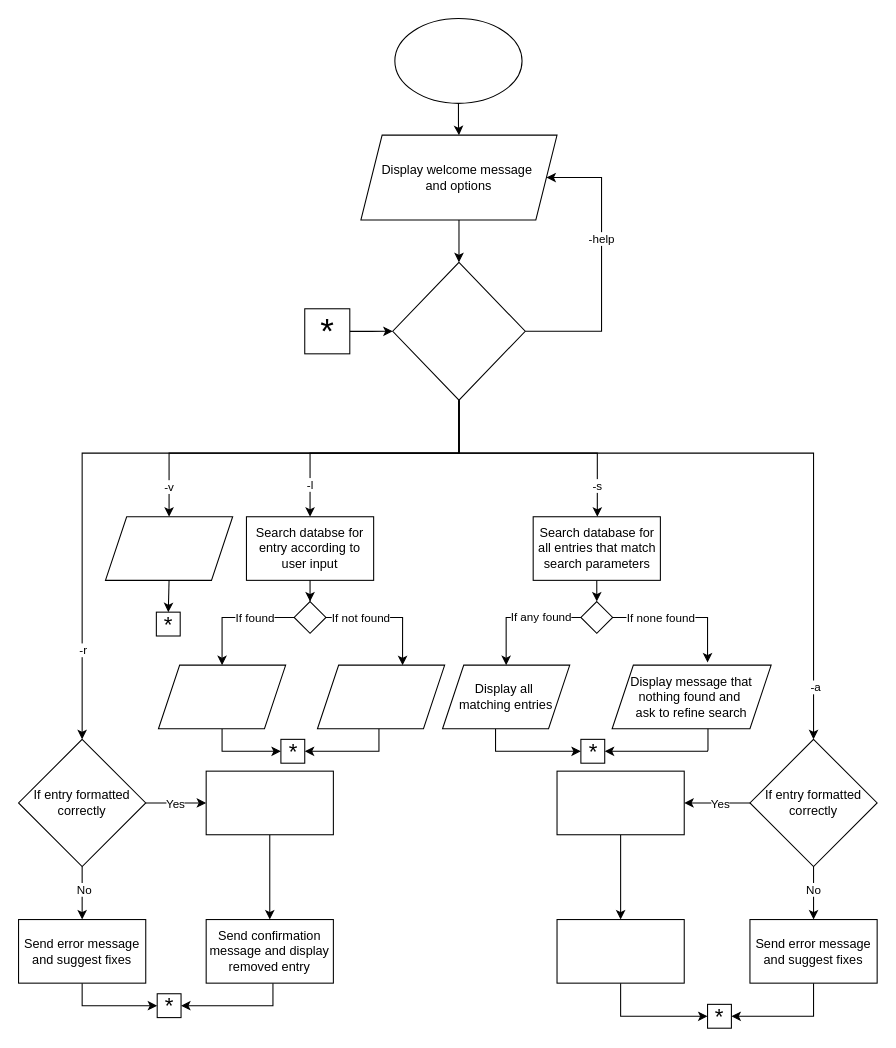
Image size: 896x1048. Some labels were removed from this diagram. Each missing label, with the centre of its shape:
"Add entry to database according to user input" goes at pixel 620 802.
"Display entry and downloadable link" goes at pixel 221 696.
"Display error message and suggest fixes" goes at pixel 380 696.
"Display list of all entries in databse" goes at pixel 168 548.
"Read user input" goes at pixel 458 330.
"Remove selected entry from database" goes at pixel 269 802.
"Send confirmation message and display added entry" goes at pixel 620 950.
"Start" goes at pixel 458 60.
